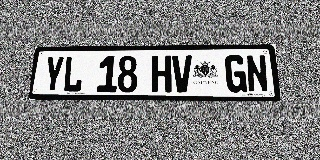1: (97, 56, 118, 93)
8: (117, 56, 138, 93)
G: (225, 55, 247, 93)
H: (152, 55, 172, 93)
L: (62, 56, 84, 93)
N: (246, 54, 269, 93)
V: (172, 55, 193, 93)
Y: (43, 56, 65, 93)
